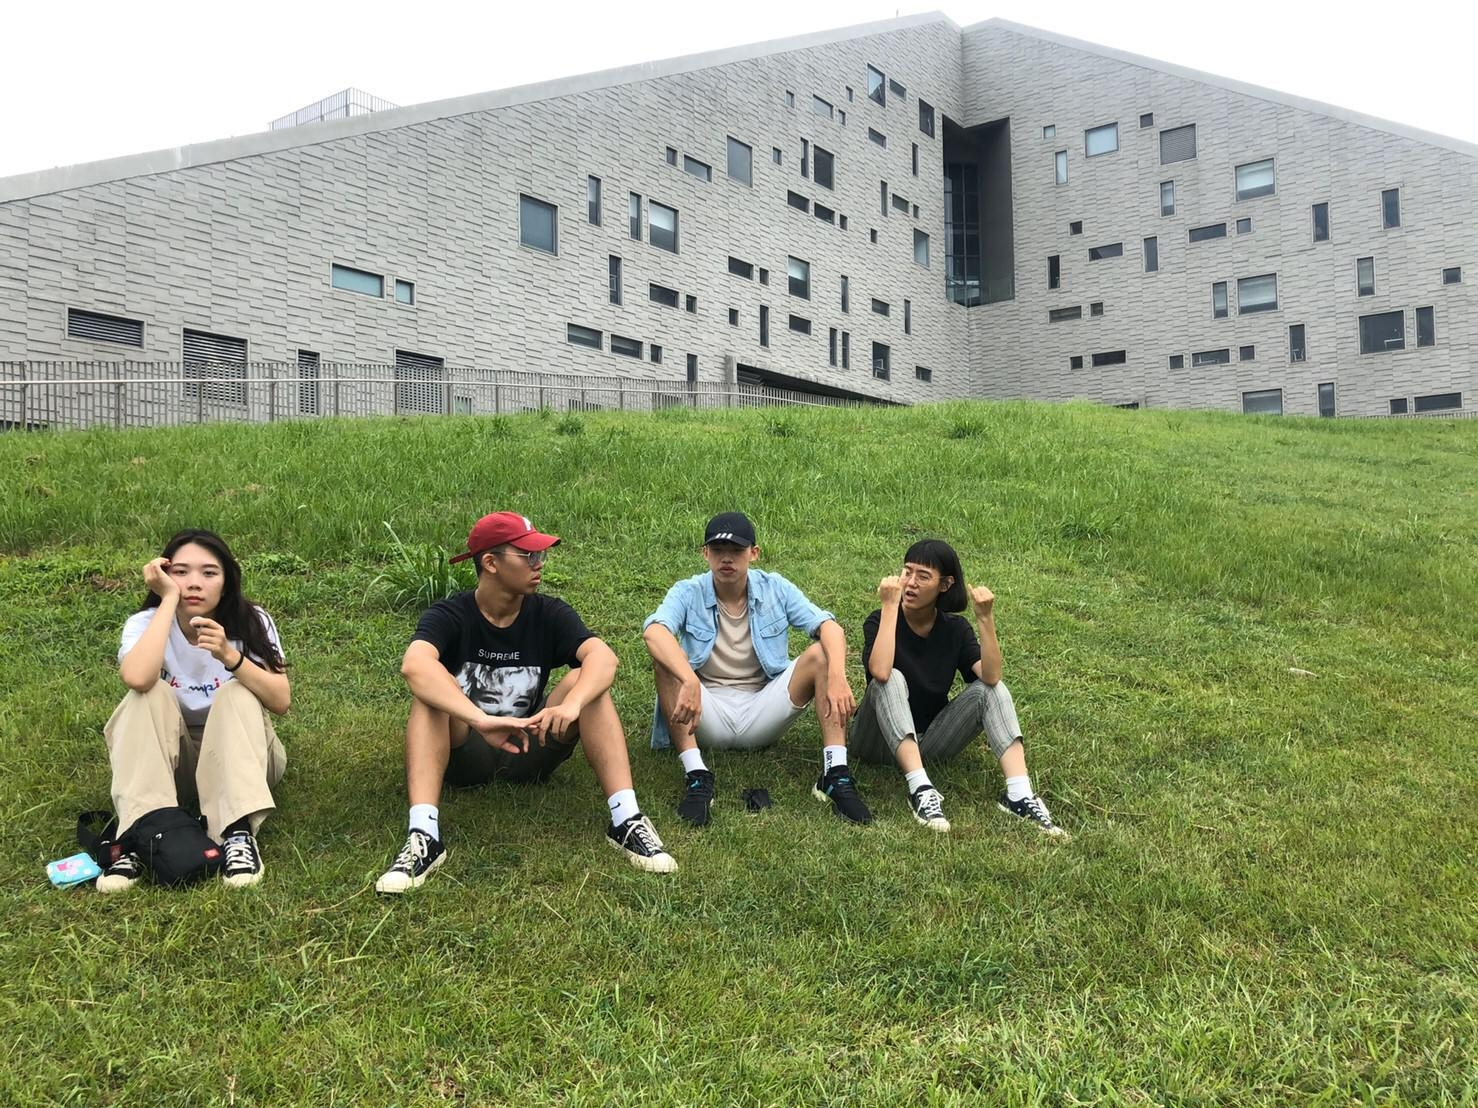people: (404, 532, 590, 838), (125, 523, 277, 882), (661, 527, 833, 809), (875, 530, 1040, 819)
